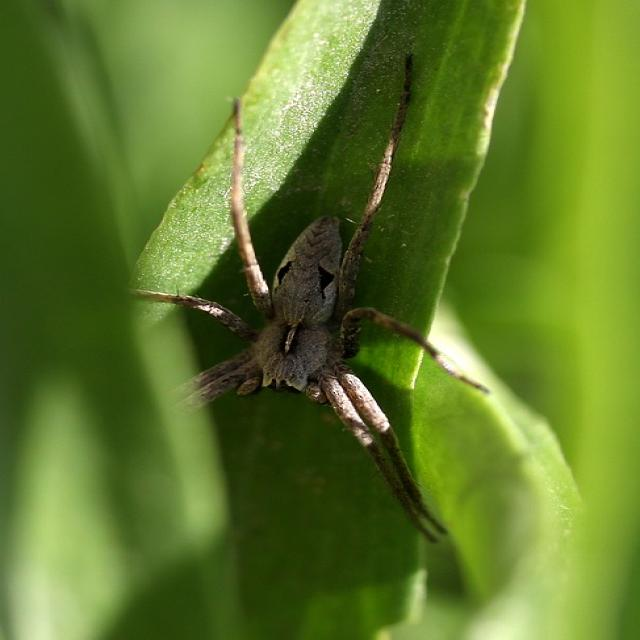spyder: (136, 56, 445, 539)
